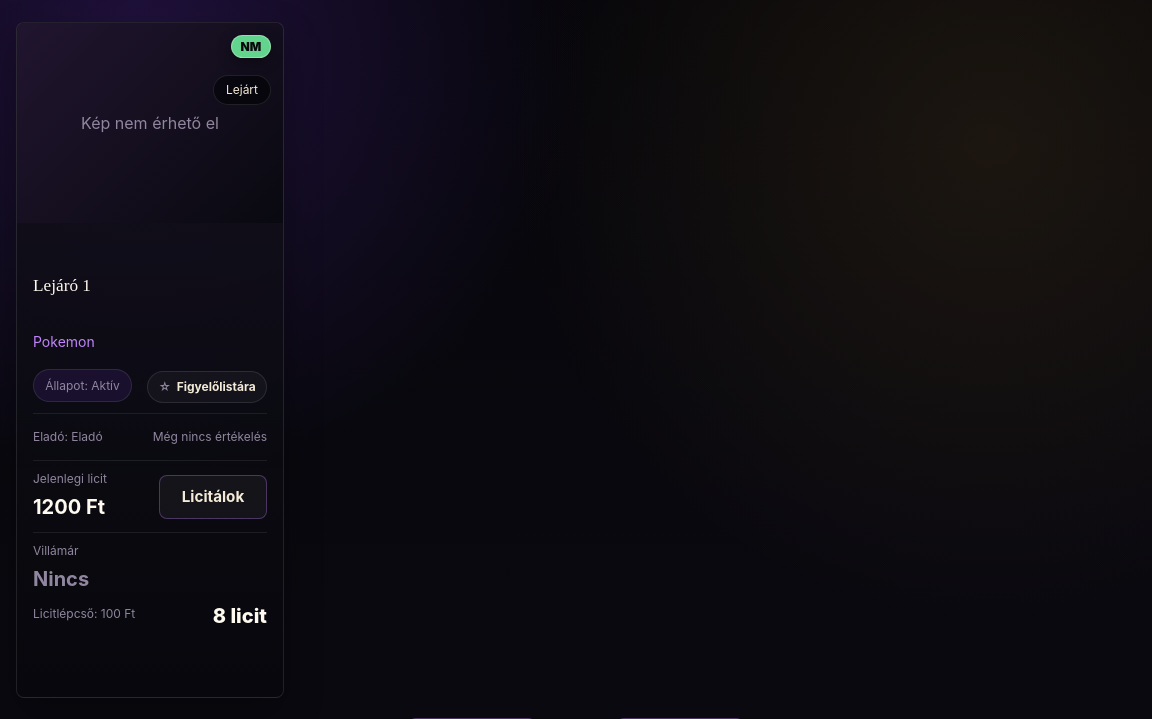
Test: HomeAuctionSection › 360 px mobilnézetben egyenként mutatja és swipe-pal lapozza a lejáró és új aukciókat
The width and height of the screenshot is (1152, 719).
(page scrolled)
Expected: the link "Lejáró 1" is shown, [33,276,91,295]
Press the mouse on the element with class "home-auction-grid" at (150, 360), box [16,22,284,698]
(page scrolled)
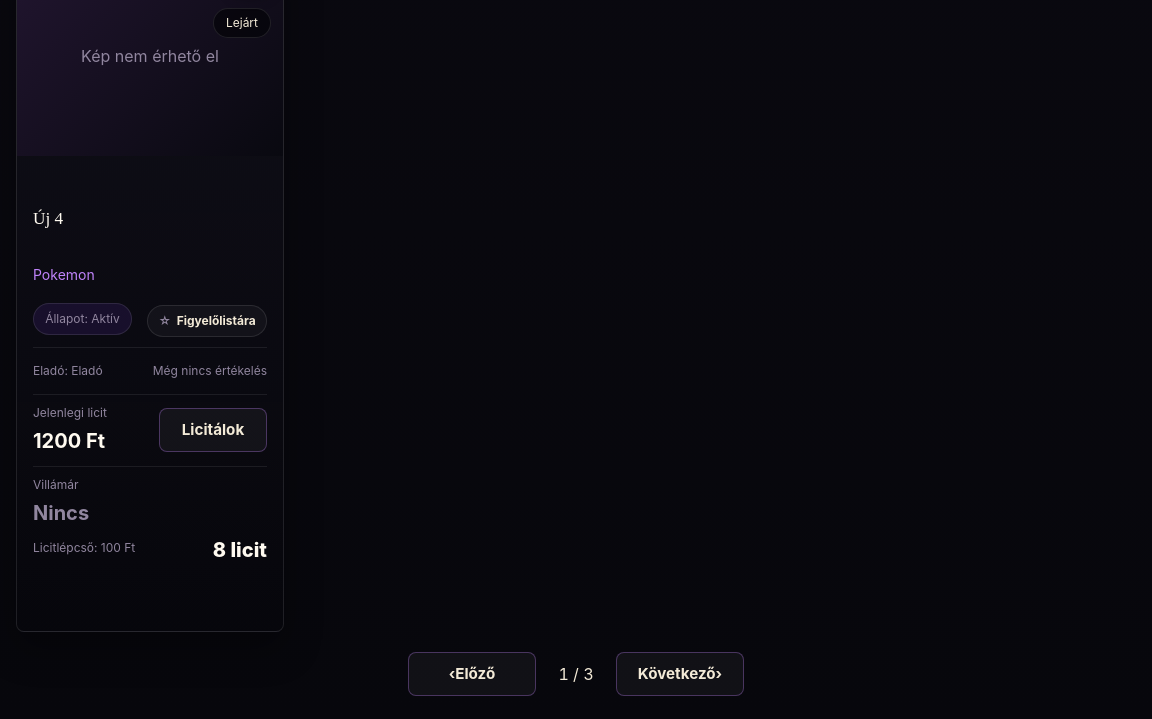
Expected: the link "Új 4" is shown, [33,209,63,228]
Click the button with aria-label "Előző új aukciók".
click(472, 674)  # box [408,652,536,696]
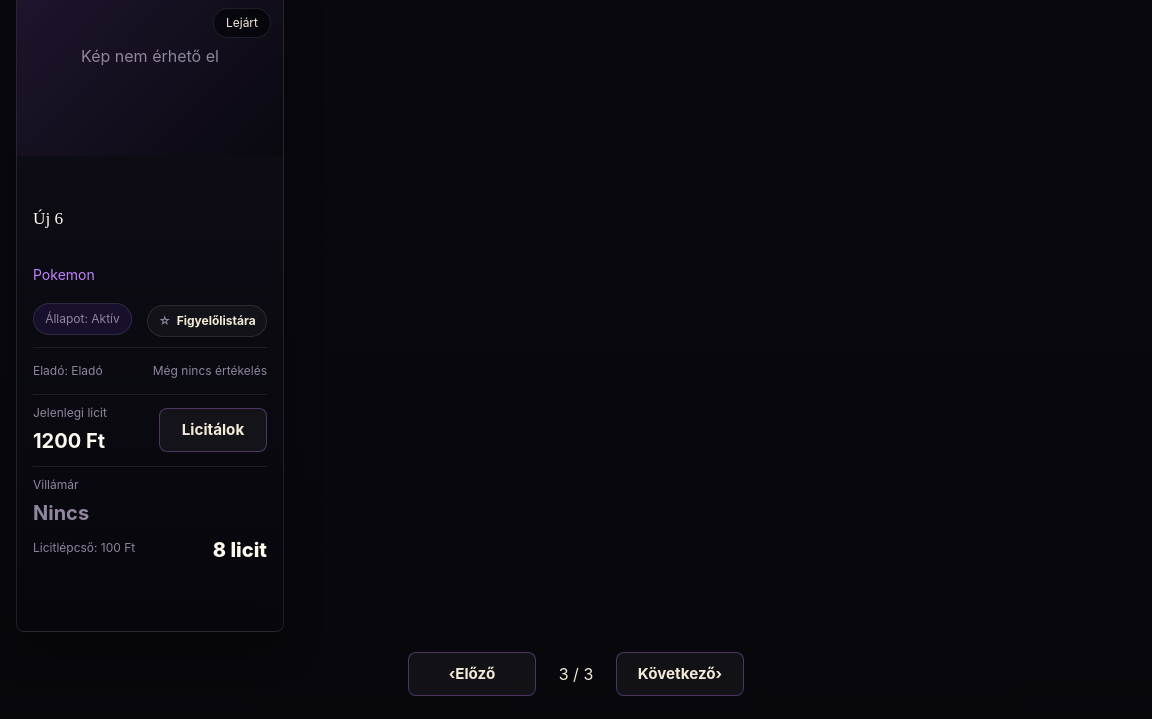
Now the link "Új 6" is shown, box [33,209,63,228]
